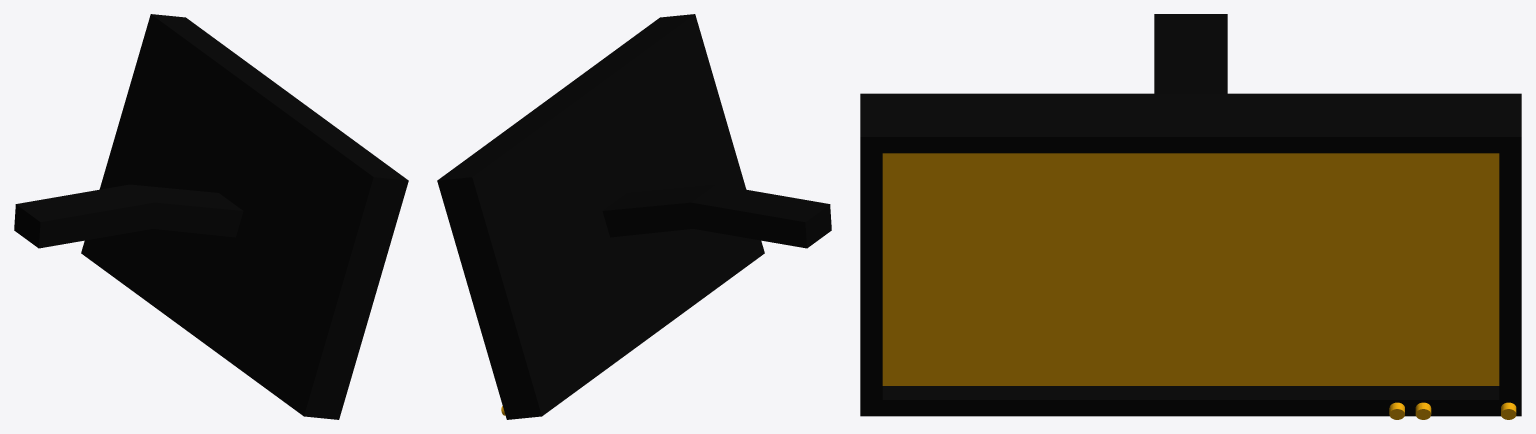
Rendered from Monitor2.obj.
The picture shows the model from 3 angles, left to right: view 1: azimuth 30°, elevation 25°; view 2: azimuth 150°, elevation 25°; view 3: azimuth 270°, elevation 25°; orthographic projection. The views are drawn at different scales.
Visible parts, largest first — view 1: Cube; view 2: Cube; view 3: Cube.
Part boxes in pixels (left/top/right/bottom): Cube: left=14, top=14, right=408, bottom=419; Cube: left=437, top=14, right=831, bottom=419; Cube: left=860, top=14, right=1521, bottom=416.
Size of the model in its own units: 1.87 by 1.54 by 2.66.
